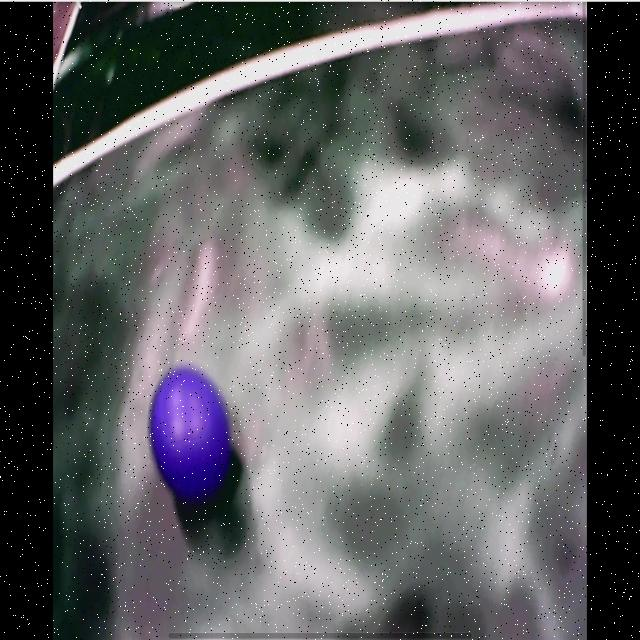ball: (150, 369, 231, 498)
